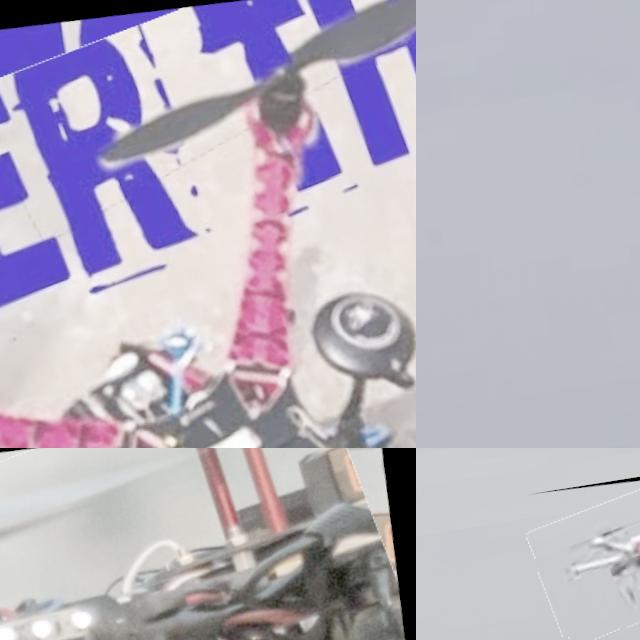0: (525, 461, 640, 640)
drone: (0, 0, 416, 448), (0, 448, 416, 640)
